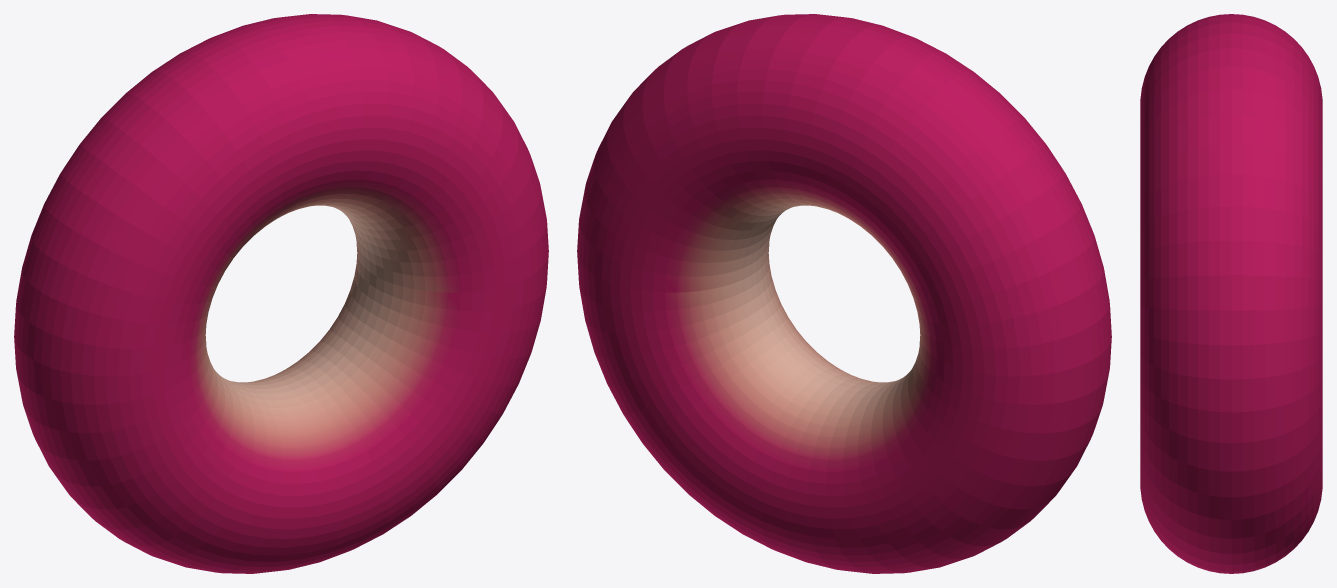
3 renders of one model, left to right at view 1: azimuth 30°, elevation 25°; view 2: azimuth 150°, elevation 25°; view 3: azimuth 270°, elevation 25°, orthographic. The views are drawn at different scales.
Parts seen in each view (by area): view 1: world; view 2: world; view 3: world.
Part boxes in pixels (x1=…): world: x1=14, y1=14, x2=548, y2=573; world: x1=577, y1=14, x2=1111, y2=573; world: x1=1140, y1=14, x2=1322, y2=573.
Size of the model in its own units: 30.67 by 30.61 by 9.98.
